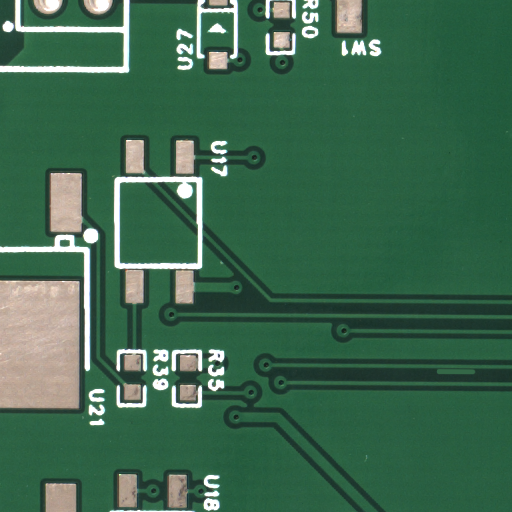Spurious_copper: (455, 371, 500, 378)
